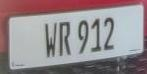1: (90, 13, 104, 58)
2: (102, 11, 119, 56)
9: (75, 13, 92, 61)
R: (57, 17, 73, 61)
W: (39, 20, 60, 60)
